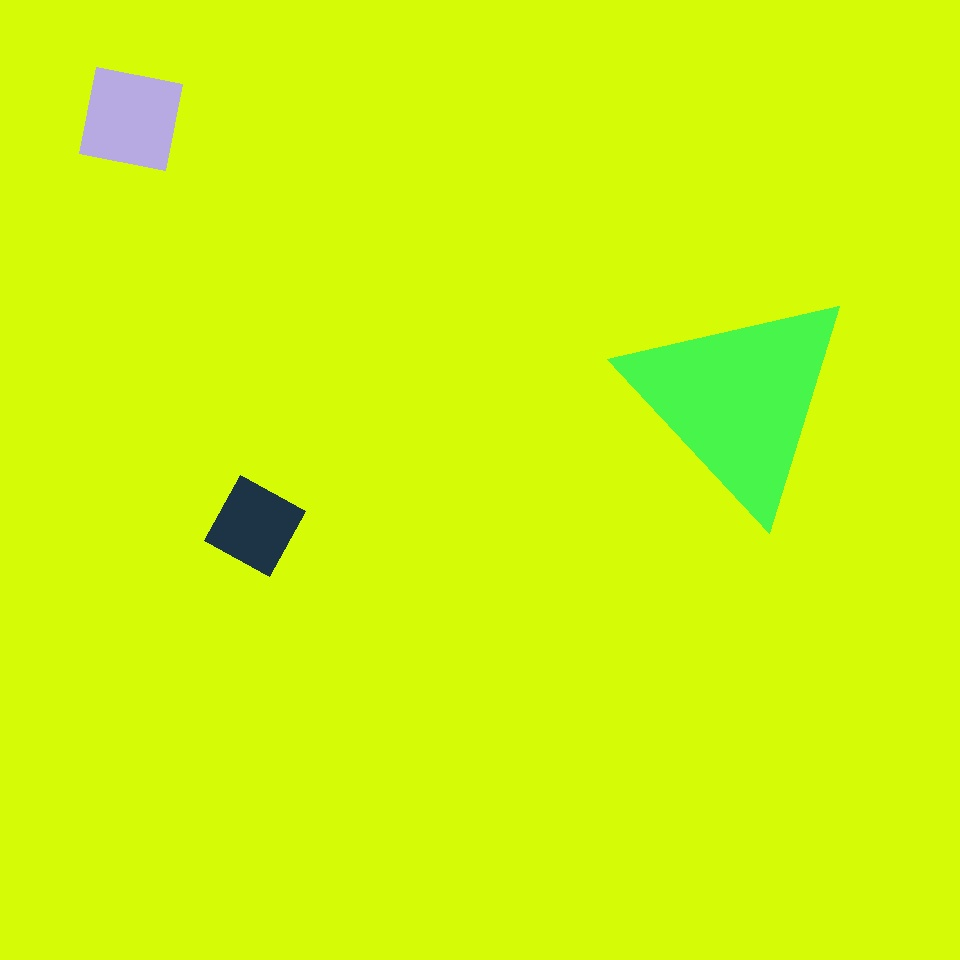circle: (623, 286, 855, 514), (91, 156, 266, 331)
square: (679, 387, 857, 565), (79, 68, 182, 170), (204, 476, 306, 576)
triangle: (527, 256, 809, 539), (53, 558, 289, 794), (797, 803, 943, 948)
